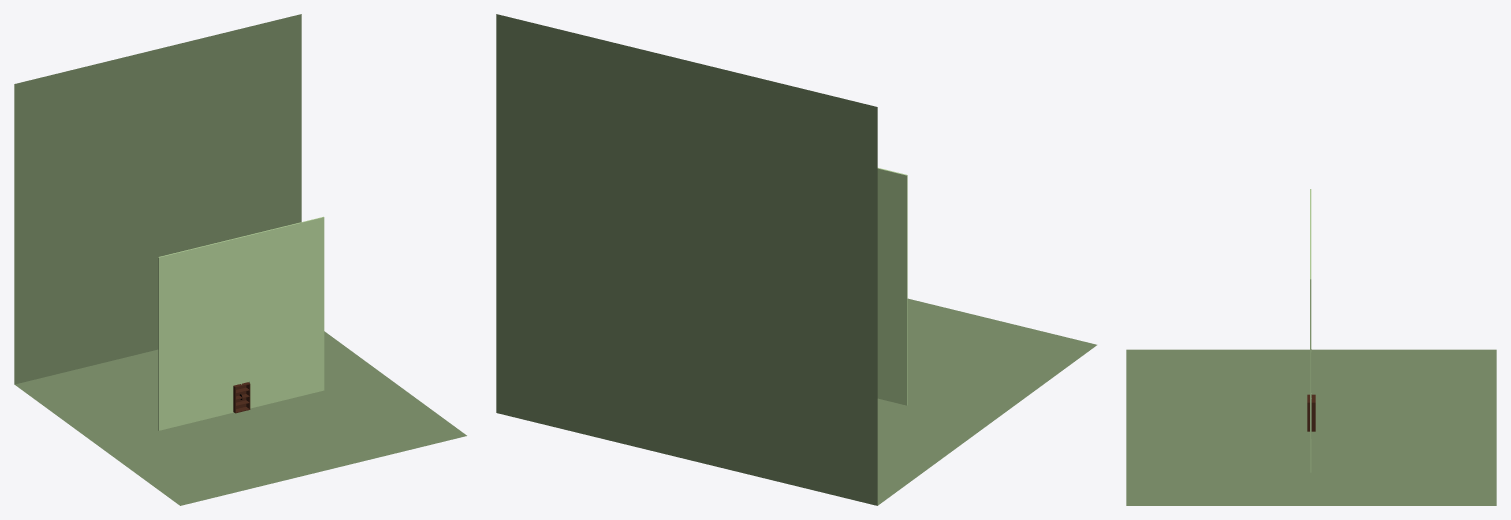
The model's file is vinyl.glb.
The picture shows the model from 3 angles, left to right: view 1: azimuth 30°, elevation 25°; view 2: azimuth 150°, elevation 25°; view 3: azimuth 270°, elevation 25°; orthographic projection. The views are drawn at different scales.
Visible parts, largest first — view 1: Backdrop, Wall, Bookshelf; view 2: Backdrop, Wall; view 3: Backdrop, Wall.
Part boxes in pixels (x1=…): Backdrop: x1=14, y1=14, x2=466, y2=505; Wall: x1=158, y1=216, x2=324, y2=430; Bookshelf: x1=233, y1=382, x2=250, y2=413; Backdrop: x1=496, y1=14, x2=1096, y2=505; Wall: x1=877, y1=168, x2=907, y2=405; Backdrop: x1=1126, y1=349, x2=1496, y2=505; Wall: x1=1310, y1=189, x2=1311, y2=472.
Bounding box in the file's own units: 17.56 × 17.56 × 17.56.
